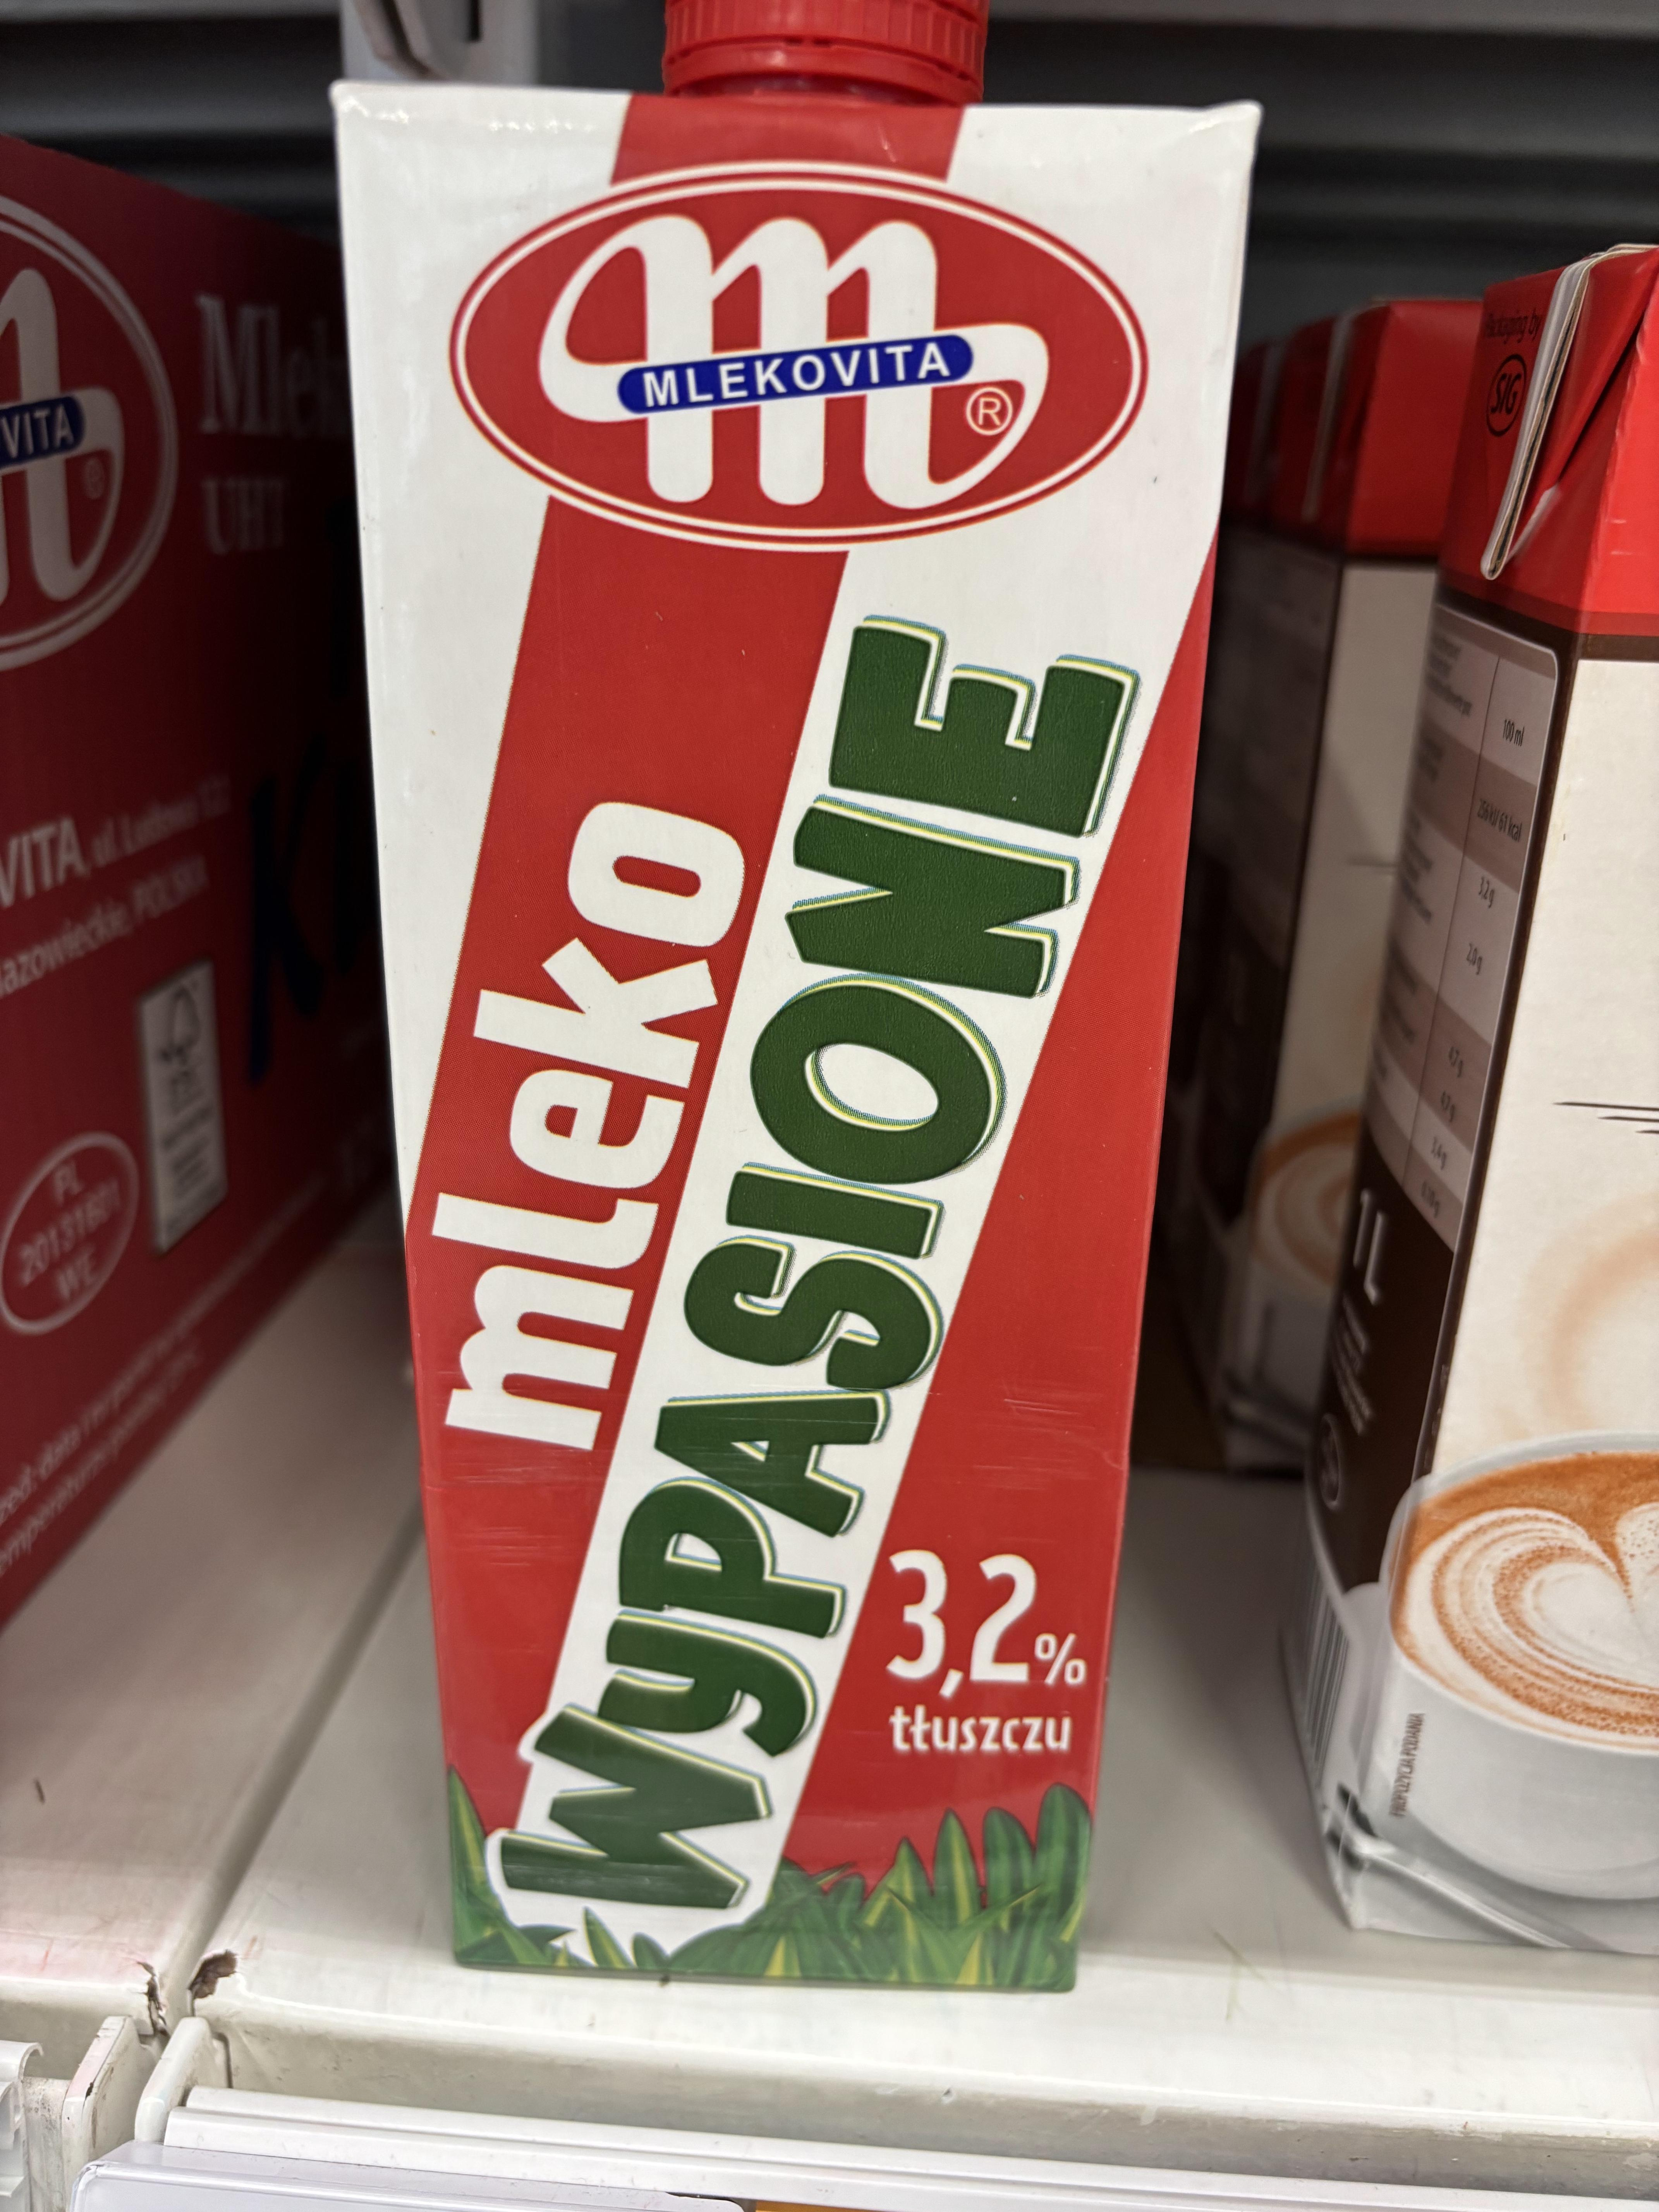Milk: (317, 61, 1215, 2015)
